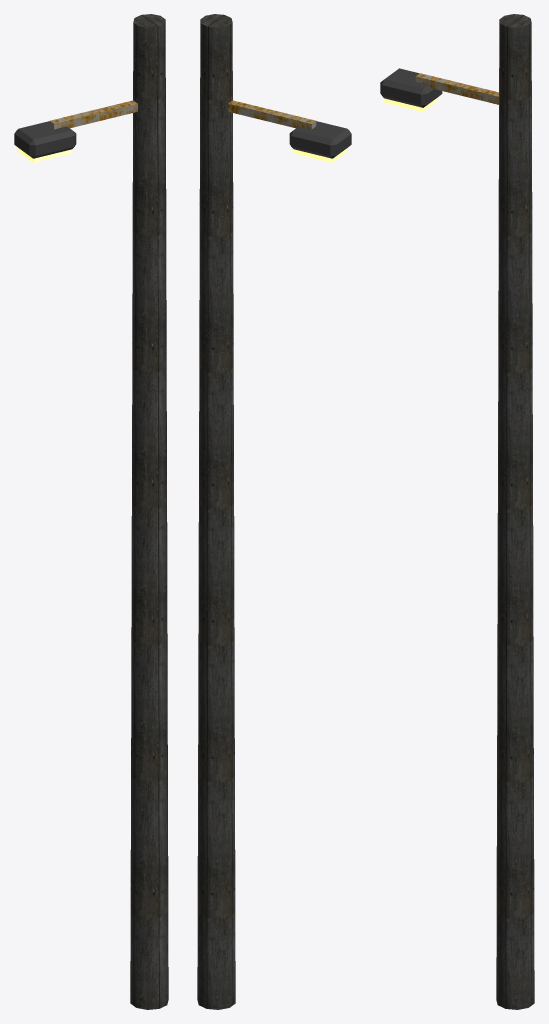
File: yard_light_pole.glb
3 renders of one model, left to right at view 1: azimuth 30°, elevation 25°; view 2: azimuth 150°, elevation 25°; view 3: azimuth 330°, elevation 25°, orthographic.
Parts seen in each view (by area): view 1: yard_light_pole; view 2: yard_light_pole; view 3: yard_light_pole.
Boxes of the visible parts, x1,y1,x2,y2 form: yard_light_pole: [14, 14, 168, 1009]; yard_light_pole: [197, 14, 351, 1009]; yard_light_pole: [380, 14, 534, 1009].
Size of the model in its own units: 1.1 by 7.2 by 0.26.
4 materials, 2 textured.
